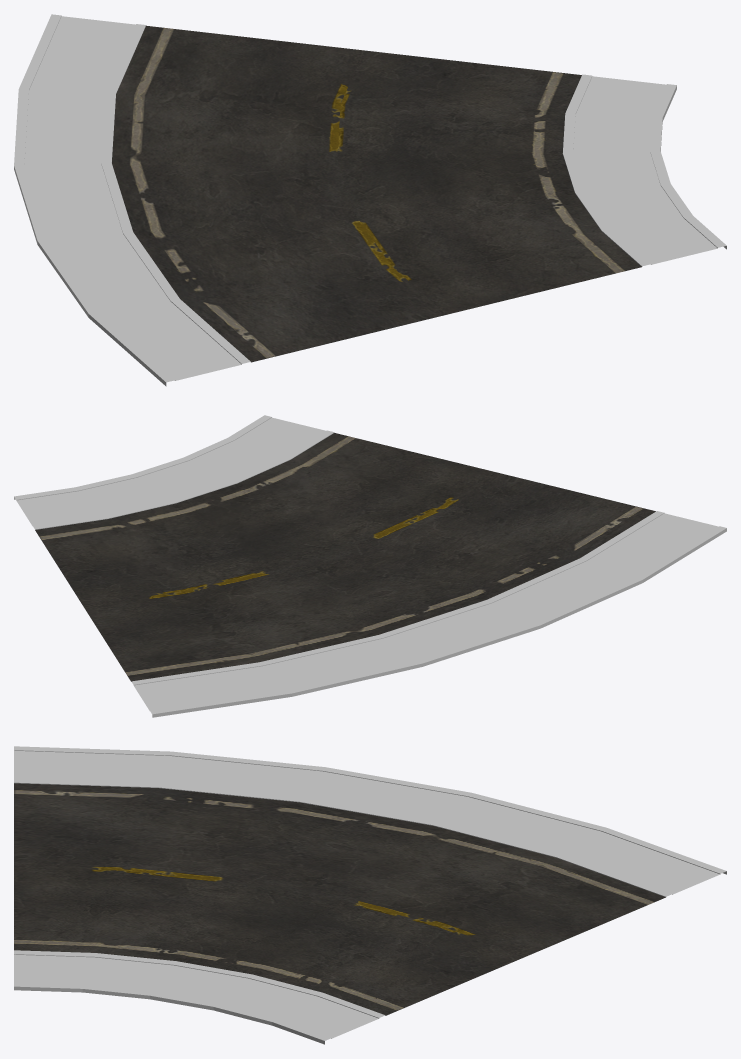
Rendered from Road_corner_3.fbx.
3 renders of one model, top to bottom at view 1: azimuth 30°, elevation 25°; view 2: azimuth 150°, elevation 25°; view 3: azimuth 270°, elevation 25°, orthographic. The views are drawn at different scales.
Visible parts, largest first — view 1: Road_corner_3; view 2: Road_corner_3; view 3: Road_corner_3.
Boxes of the visible parts, box(x1,y1,x2,y2) form: Road_corner_3: box(14, 14, 726, 386); Road_corner_3: box(14, 415, 726, 717); Road_corner_3: box(14, 746, 726, 1044).
Size of the model in its own units: 1840 by 10.58 by 1881.
